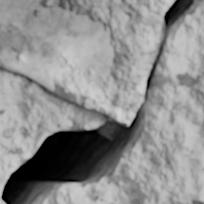brick: (0, 0, 172, 124)
crack: (0, 0, 201, 203)
